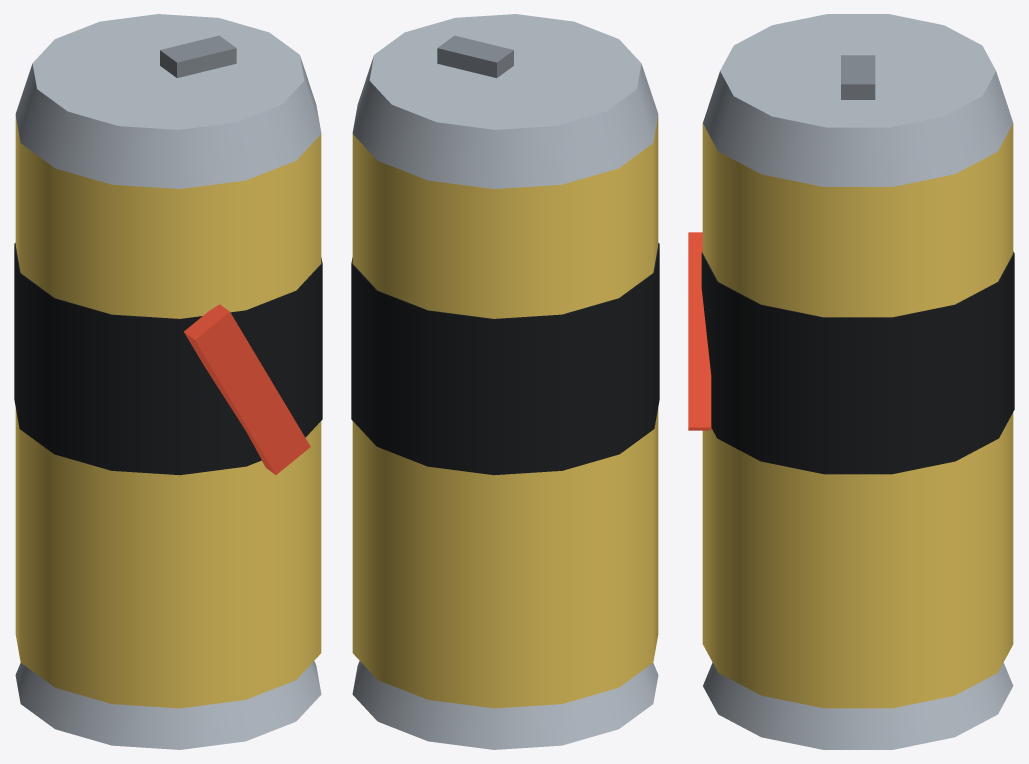
File: rush.glb
3 renders of one model, left to right at view 1: azimuth 30°, elevation 25°; view 2: azimuth 150°, elevation 25°; view 3: azimuth 270°, elevation 25°, orthographic.
Visible parts, largest first — view 1: Rush; view 2: Rush; view 3: Rush.
Boxes of the visible parts, x1,y1,x2,y2 form: Rush: [14, 14, 322, 749]; Rush: [351, 14, 659, 749]; Rush: [688, 14, 1014, 749].
Size of the model in its own units: 0.053 by 0.121 by 0.0567.
